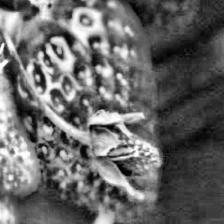Gray Mold: (61, 108, 163, 200)
